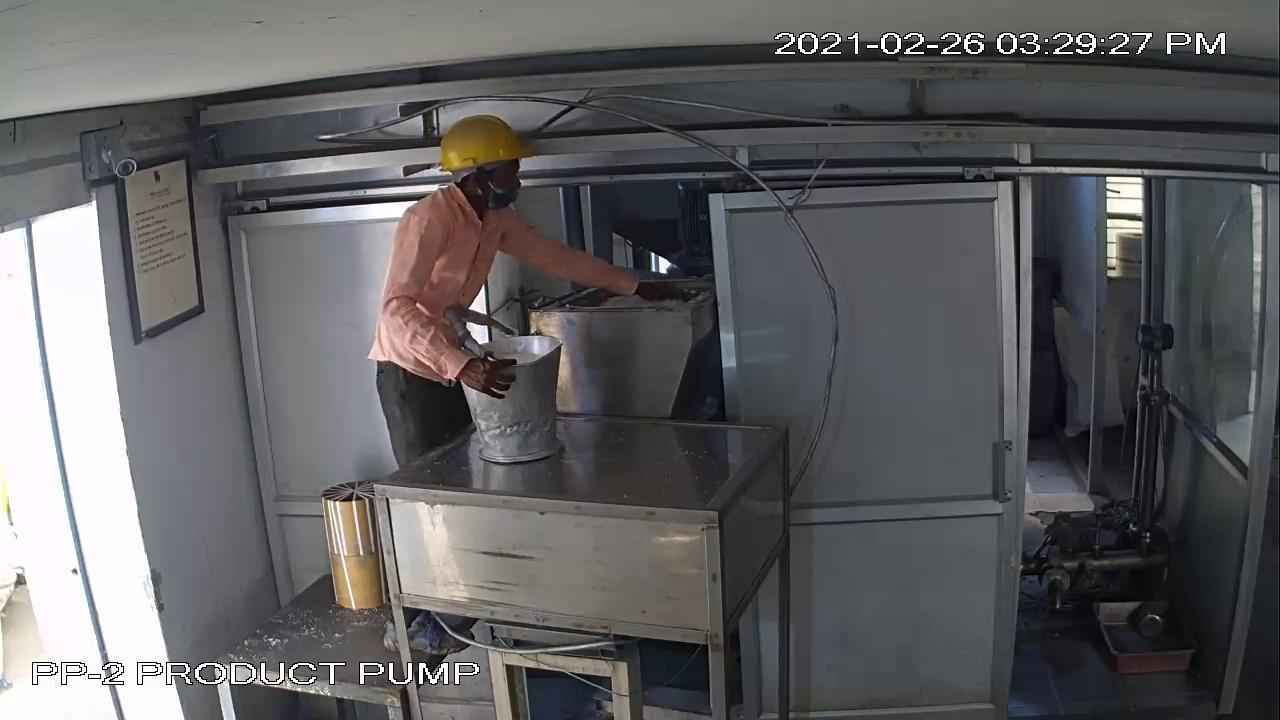helmet: (421, 112, 542, 177)
